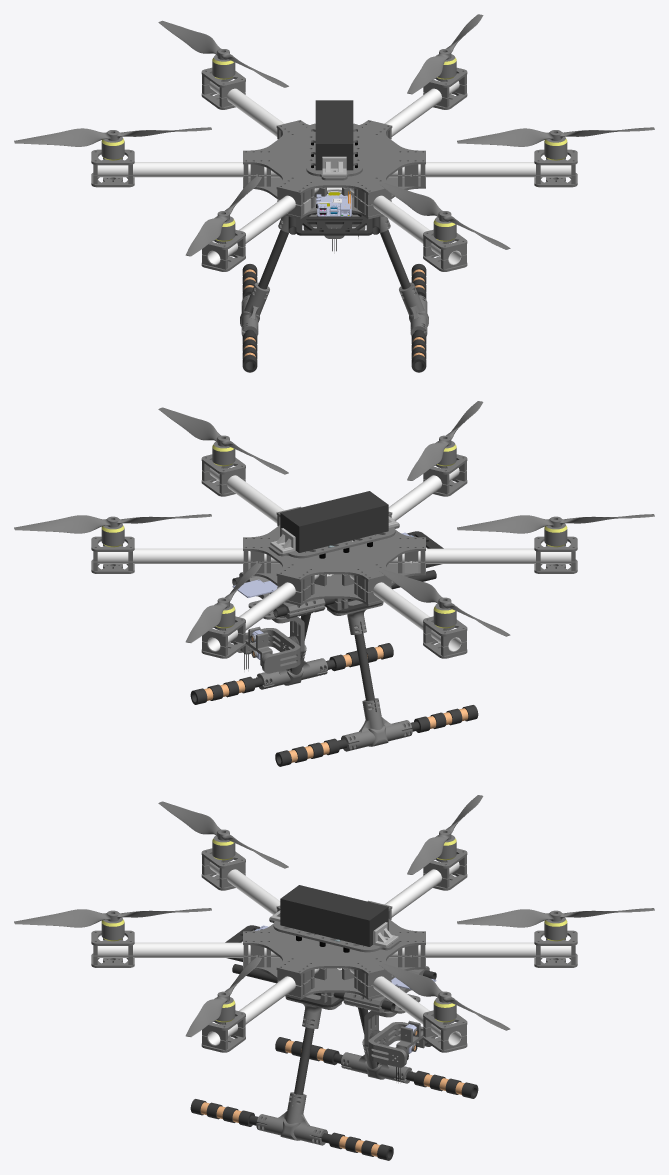
File: hexacopter.glb
3 views of the same model, one above another, from view 1: azimuth 30°, elevation 25°; view 2: azimuth 150°, elevation 25°; view 3: azimuth 270°, elevation 25° (orthographic).
Parts seen in each view (by area): view 1: Hex_Base_201-1, Hex_Top_201_2-1, 10000maH_Battery_501-5, V2_ArmCF_204-1, V2_ArmCF_204-9, Prop 13x4-1, Prop 13x4-9, PI_BackBracket_601-9, Prop 13x4-7, Prop 13x4-10, V2_ArmCF_204-11, V2_ArmCF_204-10 (+13 smaller); view 2: 10000maH_Battery_501-5, Hex_Base_201-1, V2_ArmCF_204-8, V2_ArmCF_204-11, Hex_Top_201_2-1, LandingGear_CF_Leg_Bracket_403-2, Prop 13x4-11, Prop 13x4-8, Hex_Base_201-2, Roll_Bracket_806-1, Prop 13x4-1, Prop 13x4-9 (+16 smaller); view 3: 10000maH_Battery_501-5, Hex_Base_201-1, V2_ArmCF_204-7, V2_ArmCF_204-10, LandingGear_CF_Leg_Bracket_403-5, Prop 13x4-7, Prop 13x4-10, Hex_Top_201_2-1, Hex_Base_201-2, Roll_Bracket_806-1, Prop 13x4-8, Prop 13x4-11 (+16 smaller).
Part boxes in pixels (box(x1,y1,x2,y2)): Hex_Base_201-1: box(243, 120, 425, 194); Hex_Top_201_2-1: box(243, 120, 425, 194); 10000maH_Battery_501-5: box(315, 100, 353, 170); V2_ArmCF_204-1: box(97, 162, 279, 177); V2_ArmCF_204-9: box(389, 162, 571, 177); Prop 13x4-1: box(14, 127, 211, 146); Prop 13x4-9: box(457, 127, 654, 146); PI_BackBracket_601-9: box(296, 213, 372, 235); Prop 13x4-7: box(158, 20, 288, 87); Prop 13x4-10: box(380, 183, 510, 249); V2_ArmCF_204-11: box(207, 188, 319, 264); V2_ArmCF_204-10: box(349, 188, 461, 264); 10000maH_Battery_501-5: box(280, 491, 388, 552); Hex_Base_201-1: box(243, 506, 425, 581); V2_ArmCF_204-8: box(97, 548, 279, 563); V2_ArmCF_204-11: box(389, 548, 571, 563); Hex_Top_201_2-1: box(243, 507, 425, 580); LandingGear_CF_Leg_Bracket_403-2: box(341, 698, 412, 751); Prop 13x4-11: box(457, 514, 654, 533); Prop 13x4-8: box(14, 514, 211, 533); Hex_Base_201-2: box(243, 564, 425, 605); Roll_Bracket_806-1: box(233, 628, 300, 673); Prop 13x4-1: box(380, 569, 510, 636); Prop 13x4-9: box(158, 407, 288, 474); 10000maH_Battery_501-5: box(280, 885, 388, 946); Hex_Base_201-1: box(243, 900, 425, 975); V2_ArmCF_204-7: box(389, 942, 571, 957); V2_ArmCF_204-10: box(97, 942, 279, 957); LandingGear_CF_Leg_Bracket_403-5: box(256, 1092, 327, 1145); Prop 13x4-7: box(457, 908, 654, 927); Prop 13x4-10: box(14, 908, 211, 927); Hex_Top_201_2-1: box(243, 901, 425, 975); Hex_Base_201-2: box(243, 958, 425, 999); Roll_Bracket_806-1: box(368, 1022, 435, 1067); Prop 13x4-8: box(380, 963, 510, 1030); Prop 13x4-11: box(158, 801, 288, 868).
Bounding box in the file's own units: 0.9373 × 0.3707 × 1.05.
